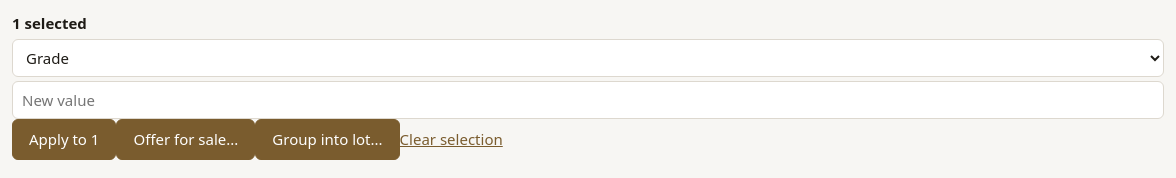
BulkEditBar › says why it cannot offer a selection with nothing on this page
Click the button "Offer for sale...": (186, 139) [116,119,255,160]
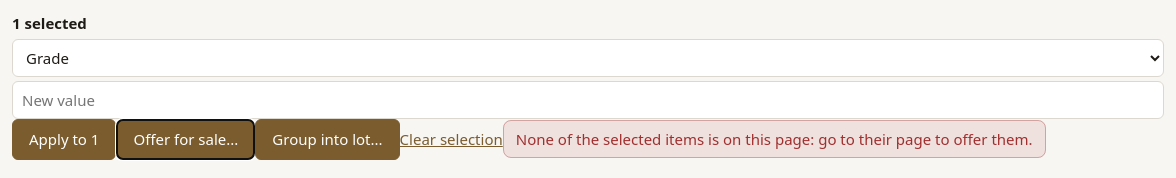
Check: the text "None of the selected items is on this page" is shown, box [516,129,1033,149]
